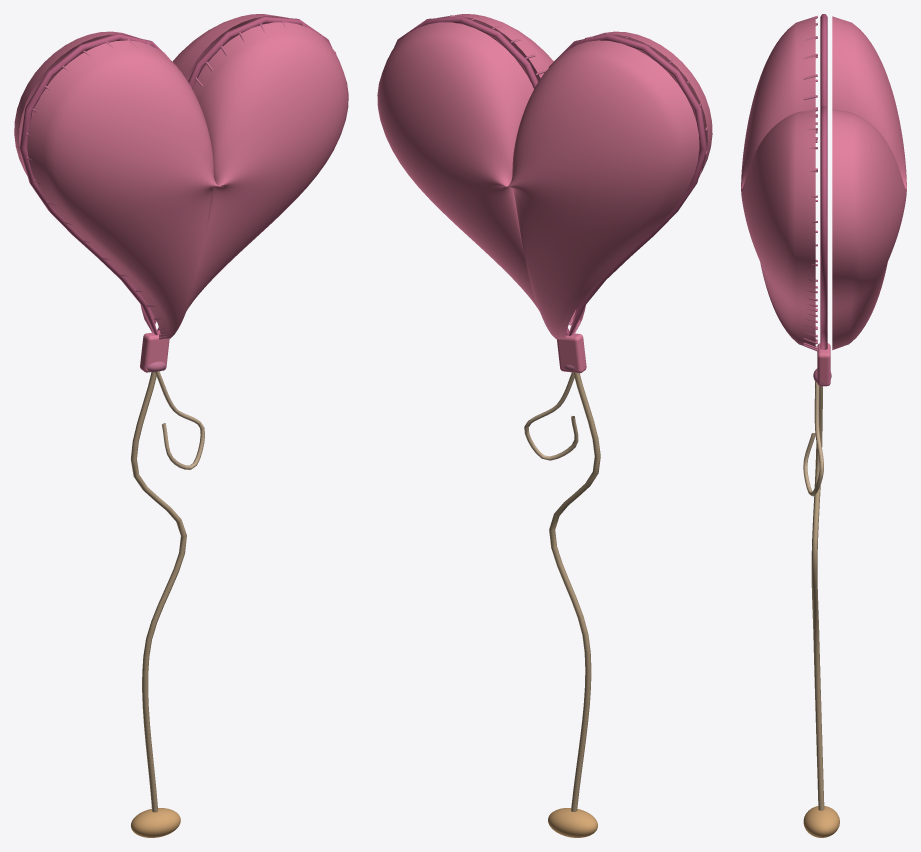
Rendered from heart-balloon.glb.
The picture shows the model from 3 angles, left to right: view 1: azimuth 30°, elevation 25°; view 2: azimuth 150°, elevation 25°; view 3: azimuth 270°, elevation 25°; orthographic projection. The views are drawn at different scales.
Parts seen in each view (by area): view 1: heart-balloon-foil:#db7998, foil-perimeter, balloon-string, heart-balloon-gold:#cfa26f, heart-balloon-satin:#c4ab8e; view 2: heart-balloon-foil:#db7998, foil-perimeter, balloon-string, heart-balloon-gold:#cfa26f, heart-balloon-satin:#c4ab8e; view 3: heart-balloon-foil:#db7998, foil-perimeter, balloon-string, heart-balloon-gold:#cfa26f, heart-balloon-satin:#c4ab8e, heart-balloon-seam:#cc7292.
Boxes of the visible parts, bbox=[...] form: heart-balloon-foil:#db7998: bbox=[14, 14, 348, 372]; foil-perimeter: bbox=[19, 16, 332, 335]; balloon-string: bbox=[131, 372, 186, 812]; heart-balloon-gold:#cfa26f: bbox=[131, 808, 180, 837]; heart-balloon-satin:#c4ab8e: bbox=[155, 371, 204, 469]; heart-balloon-foil:#db7998: bbox=[377, 14, 712, 373]; foil-perimeter: bbox=[394, 16, 707, 335]; balloon-string: bbox=[549, 372, 600, 811]; heart-balloon-gold:#cfa26f: bbox=[548, 808, 597, 837]; heart-balloon-satin:#c4ab8e: bbox=[524, 372, 578, 460]; heart-balloon-foil:#db7998: bbox=[741, 16, 906, 386]; foil-perimeter: bbox=[820, 14, 827, 349]; balloon-string: bbox=[811, 386, 824, 810]; heart-balloon-gold:#cfa26f: bbox=[803, 806, 839, 837]; heart-balloon-satin:#c4ab8e: bbox=[803, 381, 823, 496]; heart-balloon-seam:#cc7292: bbox=[803, 16, 817, 351].
Size of the model in its own units: 0.9699 by 2.33 by 0.4451.
